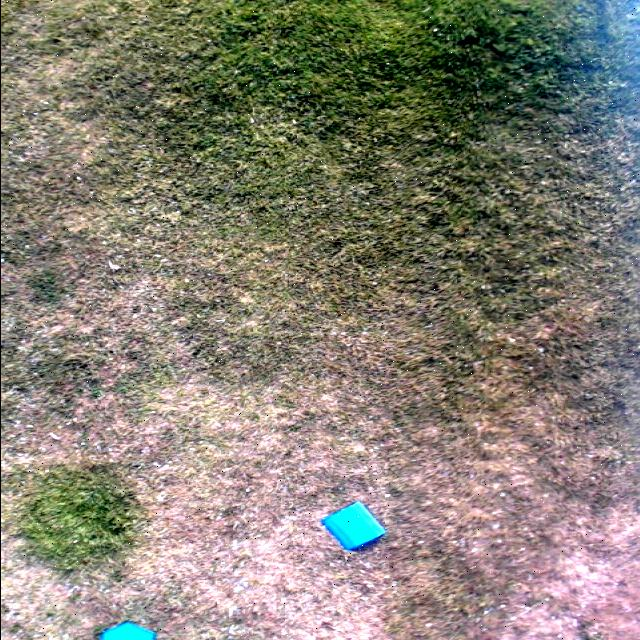blue_hexagon: (318, 500, 386, 553)
